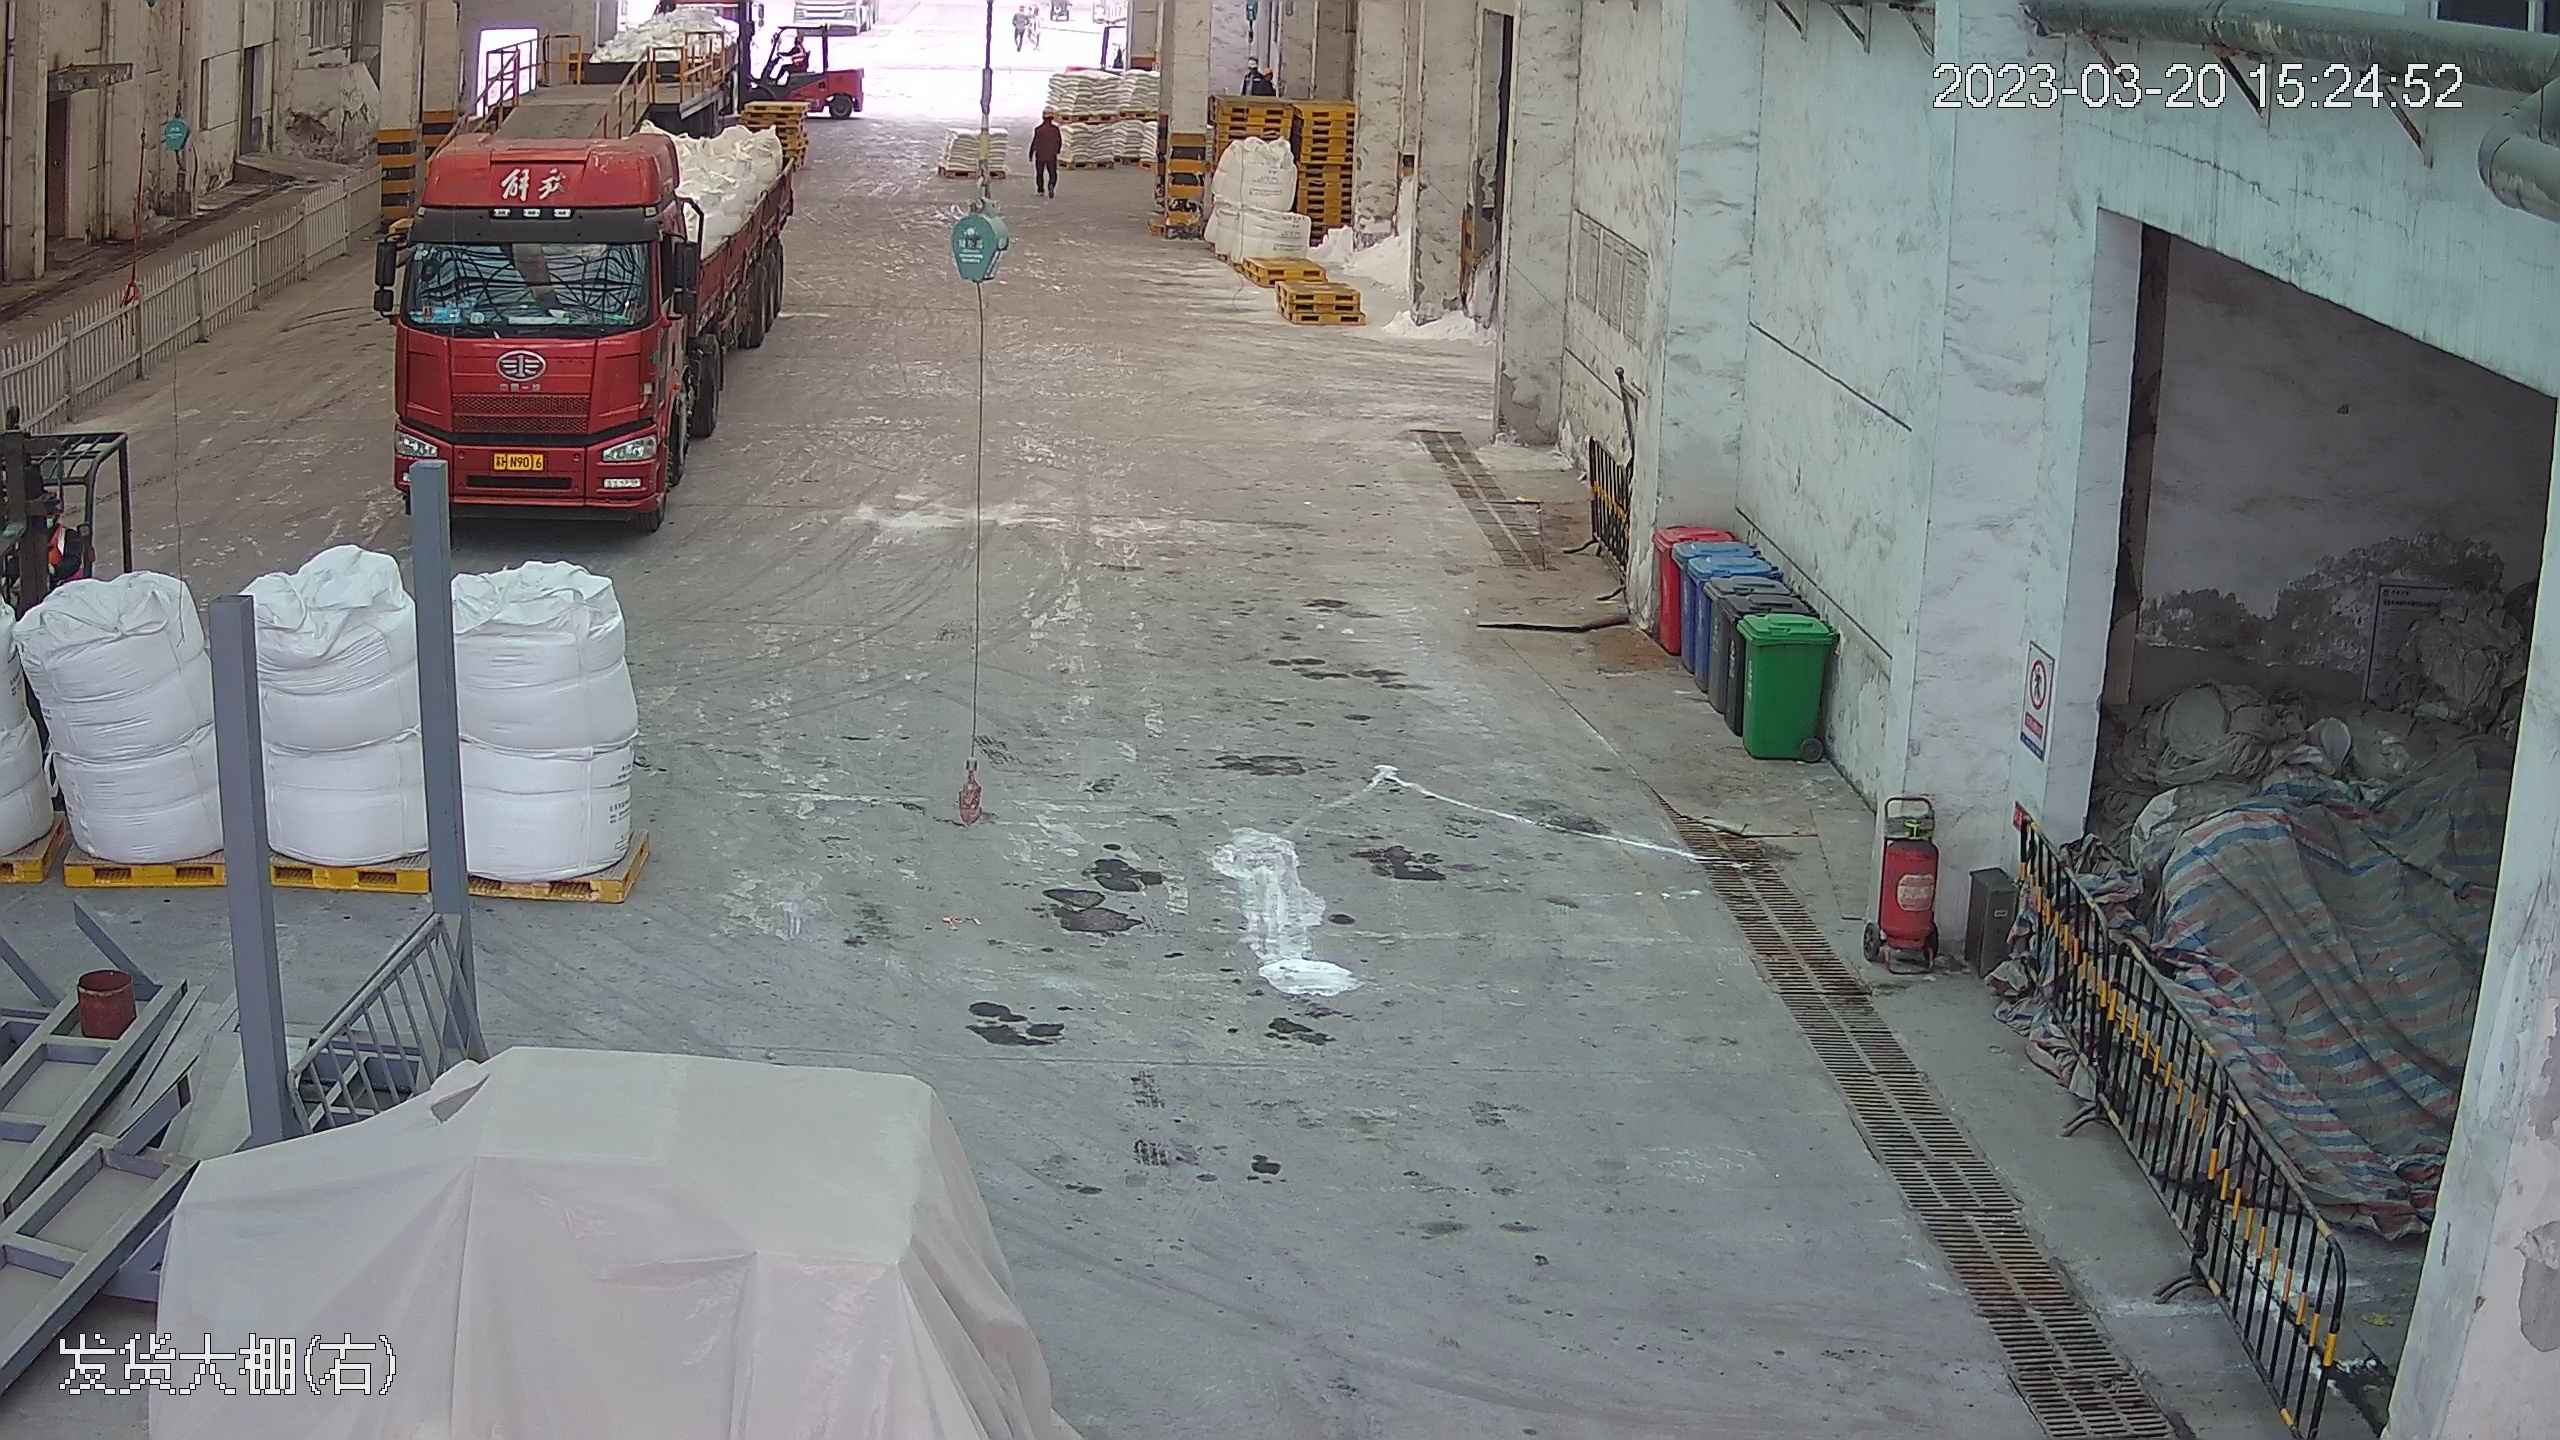head: (1036, 96, 1064, 129), (1243, 60, 1264, 88), (791, 36, 806, 58)
helmet: (1042, 107, 1054, 121), (1248, 60, 1258, 70), (1263, 66, 1272, 76), (795, 35, 805, 43)
people: (1029, 95, 1067, 196), (771, 35, 807, 81)
truck: (374, 51, 805, 520)
